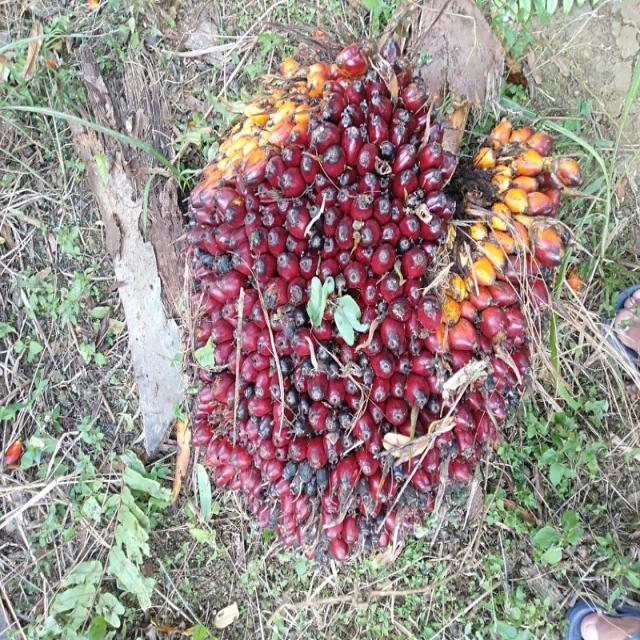fraksi 1: (146, 20, 608, 606)
